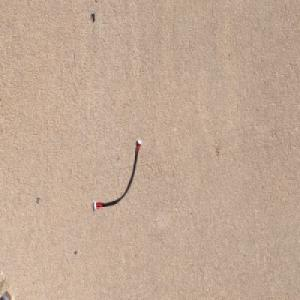Wire: (93, 137, 142, 212)
